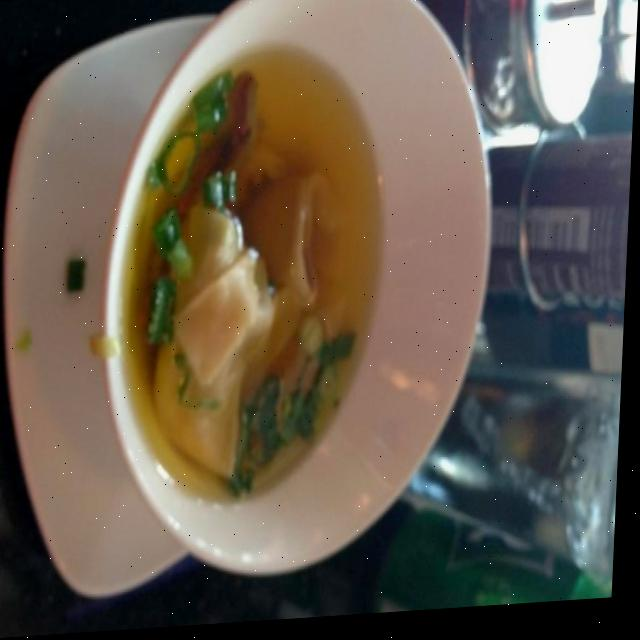汤锅炖物: (108, 20, 444, 532)
